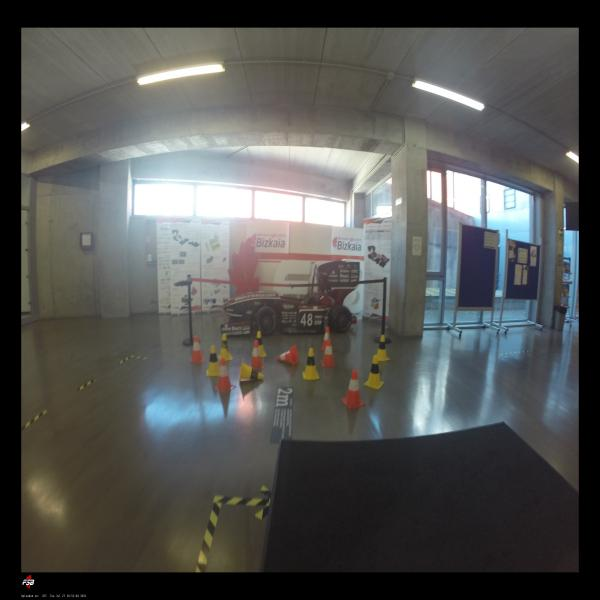orange_cone: (341, 369, 366, 409), (213, 358, 235, 394), (249, 340, 266, 370), (277, 345, 299, 366), (321, 340, 336, 367), (190, 336, 204, 362), (320, 327, 334, 351)
yellow_cone: (363, 356, 384, 390), (302, 348, 320, 380), (240, 360, 264, 384), (373, 335, 390, 361), (218, 333, 233, 361), (206, 345, 219, 377), (256, 331, 266, 357)
